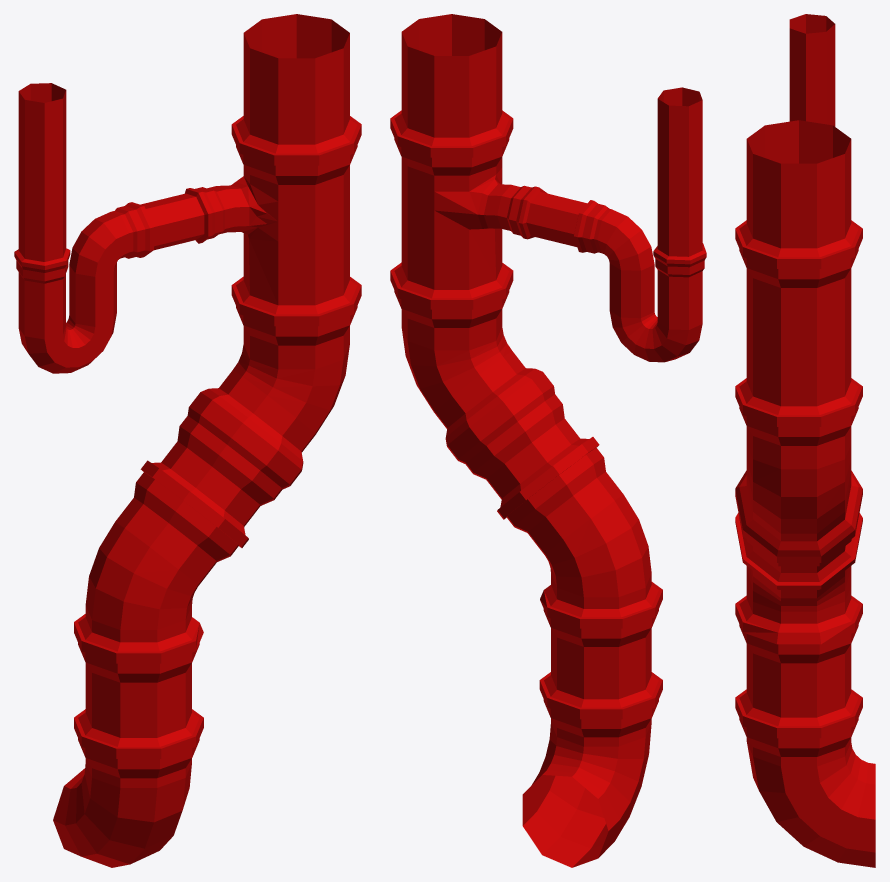
The model's file is pipe.obj.
3 views of the same model, side by side, from view 1: azimuth 30°, elevation 25°; view 2: azimuth 150°, elevation 25°; view 3: azimuth 270°, elevation 25° (orthographic). The views are drawn at different scales.
Size of the model in its own units: 0.6965 by 1.65 by 0.2652.
